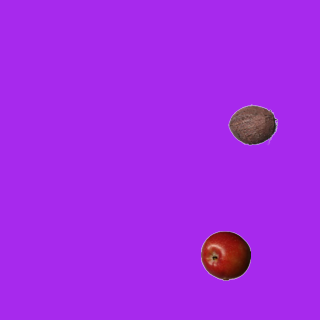Apple Braeburn: (200, 230, 250, 280)
Cocos: (227, 99, 277, 149)
